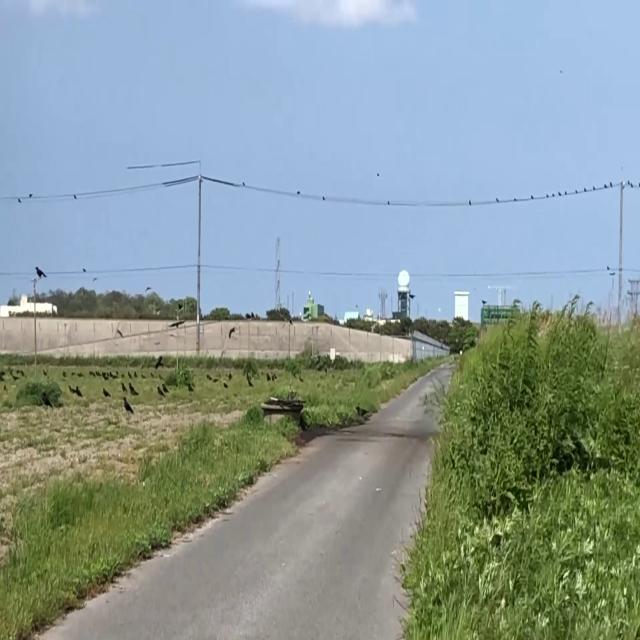bird: (35, 261, 46, 284), (124, 392, 131, 418), (130, 382, 135, 402), (103, 383, 108, 401), (76, 382, 81, 400), (158, 385, 162, 401), (267, 370, 270, 384)
